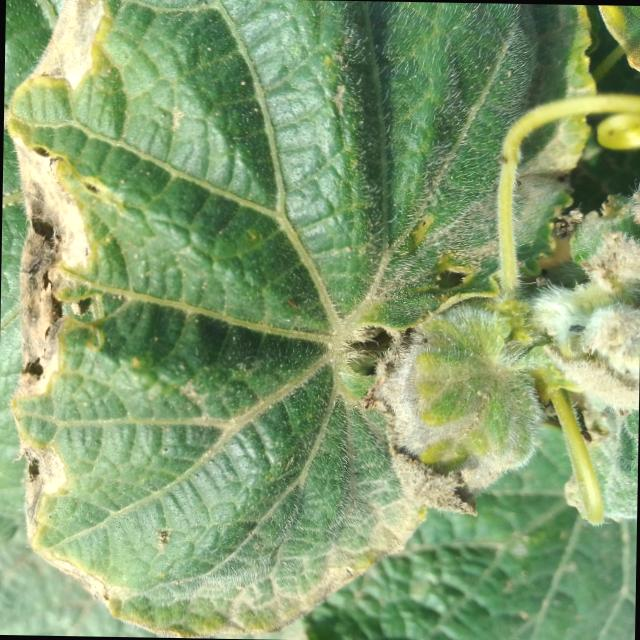cucumber_gummy: (0, 0, 603, 640), (343, 288, 565, 552), (521, 171, 640, 534)
